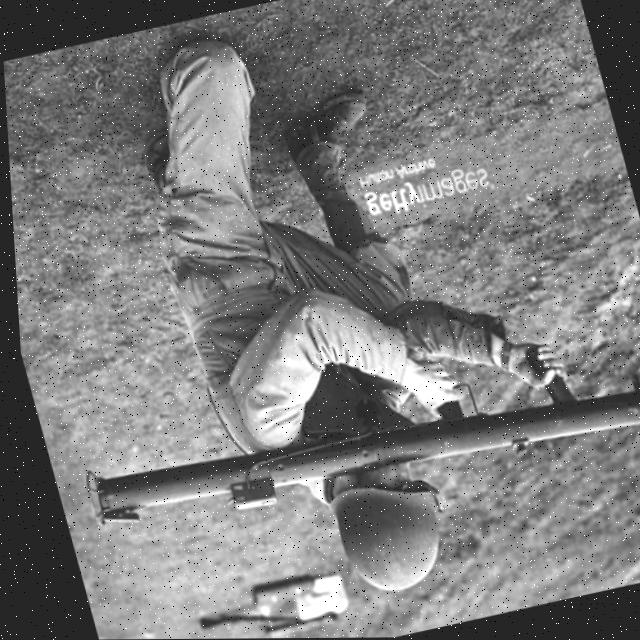rocket: (64, 331, 640, 577)
